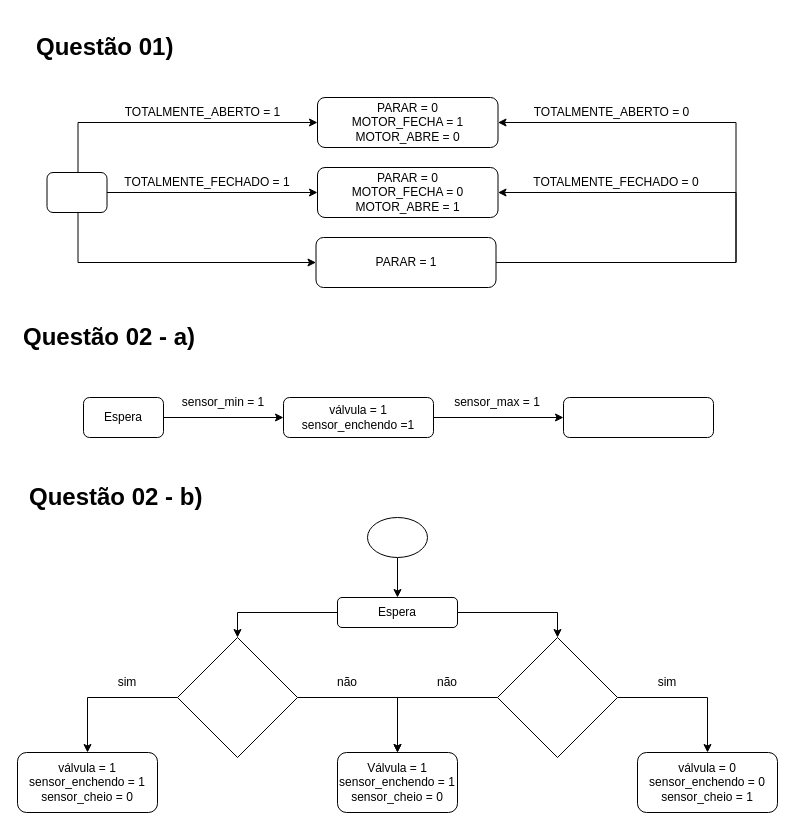
Some shapes in this 795 by 830 pixel diagram are drawn without their labels. Here are the shapes that lost their labels. From the top down, the centre of each, then its label:
At point 76,192: "Botão".
At point 638,417: "válvula = 0 sensor_cheio=1".
At point 397,537: "Início".
At point 237,697: "Sensor_min está ativado?".
At point 557,697: "Sensor_max está ativado?".
